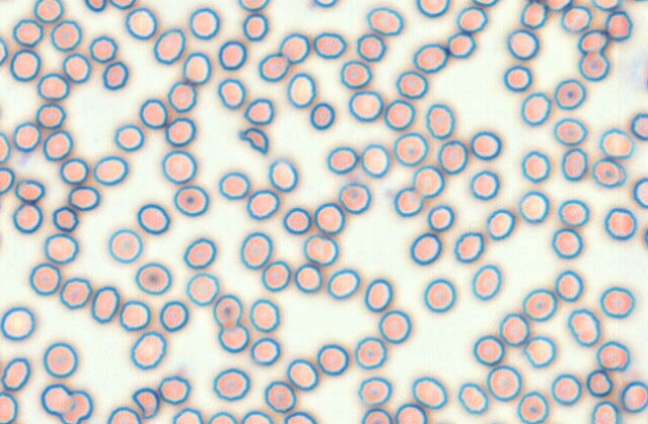RBC: (129, 330, 166, 369), (42, 341, 78, 378), (486, 364, 522, 401), (212, 367, 250, 401), (134, 261, 172, 295), (161, 149, 197, 184), (567, 308, 600, 346), (239, 231, 272, 269), (108, 228, 143, 263), (0, 306, 35, 340), (393, 132, 428, 166), (411, 376, 447, 409), (185, 272, 219, 306), (303, 233, 338, 266), (423, 278, 456, 313), (522, 288, 557, 321), (153, 28, 185, 64), (598, 127, 634, 159), (599, 286, 635, 318), (173, 184, 209, 216), (471, 263, 502, 300), (90, 285, 120, 323), (40, 383, 74, 416), (60, 389, 93, 423), (412, 164, 445, 198), (378, 309, 411, 343), (603, 207, 637, 240), (43, 232, 78, 264), (348, 90, 383, 122), (412, 42, 448, 73), (366, 6, 403, 36), (425, 102, 455, 139), (263, 380, 296, 413), (59, 276, 92, 309), (338, 181, 371, 214), (516, 390, 549, 423), (409, 232, 442, 265), (354, 336, 387, 369), (212, 293, 243, 328), (591, 157, 626, 188), (520, 91, 551, 126), (437, 139, 468, 174), (286, 72, 316, 108), (118, 299, 151, 331), (29, 262, 61, 295), (183, 237, 216, 269), (517, 190, 549, 223), (316, 343, 349, 375), (553, 78, 586, 110), (499, 312, 530, 346), (326, 268, 360, 299), (596, 340, 630, 371), (249, 298, 280, 332), (136, 203, 170, 234), (360, 143, 390, 178), (93, 155, 128, 185), (286, 358, 318, 390), (472, 334, 504, 366), (550, 373, 582, 405), (125, 7, 157, 39), (50, 19, 82, 51), (383, 98, 415, 130), (313, 202, 345, 234), (507, 28, 539, 60), (551, 227, 583, 259), (457, 381, 488, 414), (246, 189, 279, 220), (268, 158, 298, 192), (1, 356, 30, 391), (357, 376, 392, 405), (578, 50, 610, 81), (188, 7, 219, 39), (42, 129, 73, 161), (453, 231, 484, 263), (9, 49, 40, 81), (395, 69, 428, 99), (157, 375, 191, 404), (553, 117, 587, 146), (260, 260, 291, 291), (279, 32, 310, 63), (217, 323, 249, 353), (340, 59, 372, 89), (159, 300, 189, 332), (554, 269, 583, 302), (182, 51, 211, 84), (364, 278, 392, 312), (560, 147, 588, 181), (393, 186, 423, 217), (167, 81, 197, 112), (258, 52, 289, 82), (12, 202, 42, 233), (469, 169, 499, 200), (470, 130, 501, 160), (37, 72, 69, 101), (326, 145, 358, 174), (560, 4, 592, 33), (486, 208, 515, 240), (218, 171, 250, 200), (557, 198, 589, 227), (521, 150, 550, 182), (313, 31, 346, 59), (217, 40, 247, 70), (250, 336, 281, 365), (12, 18, 43, 47), (139, 98, 168, 129), (62, 52, 91, 83), (165, 117, 196, 146), (217, 77, 245, 109), (620, 380, 647, 413), (356, 33, 386, 62), (604, 10, 632, 41), (243, 97, 274, 125), (456, 5, 487, 33), (67, 185, 100, 211), (294, 263, 322, 293), (13, 121, 41, 151), (577, 28, 609, 54), (282, 206, 311, 234), (503, 64, 532, 92), (35, 102, 65, 129), (114, 124, 144, 151), (585, 369, 613, 397), (520, 1, 548, 29), (89, 35, 117, 63), (446, 31, 475, 58), (59, 157, 88, 184), (102, 60, 128, 90), (14, 178, 45, 203), (309, 101, 335, 130), (427, 204, 454, 231), (242, 13, 268, 41), (52, 205, 78, 232), (394, 402, 427, 423), (33, 0, 63, 23), (591, 400, 620, 423), (106, 406, 141, 423), (415, 0, 450, 17), (0, 391, 18, 423), (171, 407, 203, 423), (361, 407, 392, 423), (632, 176, 647, 208), (630, 112, 647, 140), (283, 410, 317, 423), (240, 410, 273, 423), (0, 166, 14, 194), (237, 0, 270, 11), (207, 411, 237, 423), (0, 131, 11, 163), (544, 0, 572, 11), (591, 0, 619, 11), (83, 0, 106, 12), (109, 0, 136, 9), (0, 36, 8, 65), (312, 0, 338, 8), (471, 0, 499, 7), (641, 58, 647, 89), (643, 224, 648, 249), (0, 101, 2, 122)
Schistocyte: (525, 338, 556, 368), (242, 128, 270, 155), (134, 389, 160, 418)
